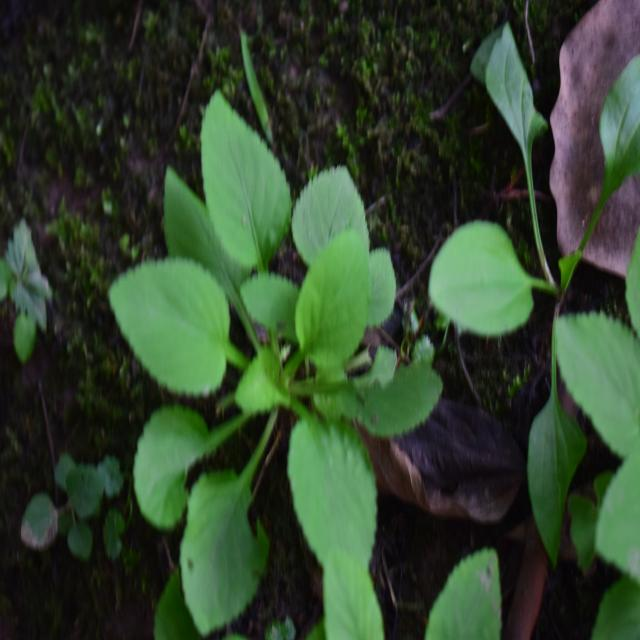Viola: (98, 128, 430, 550)
